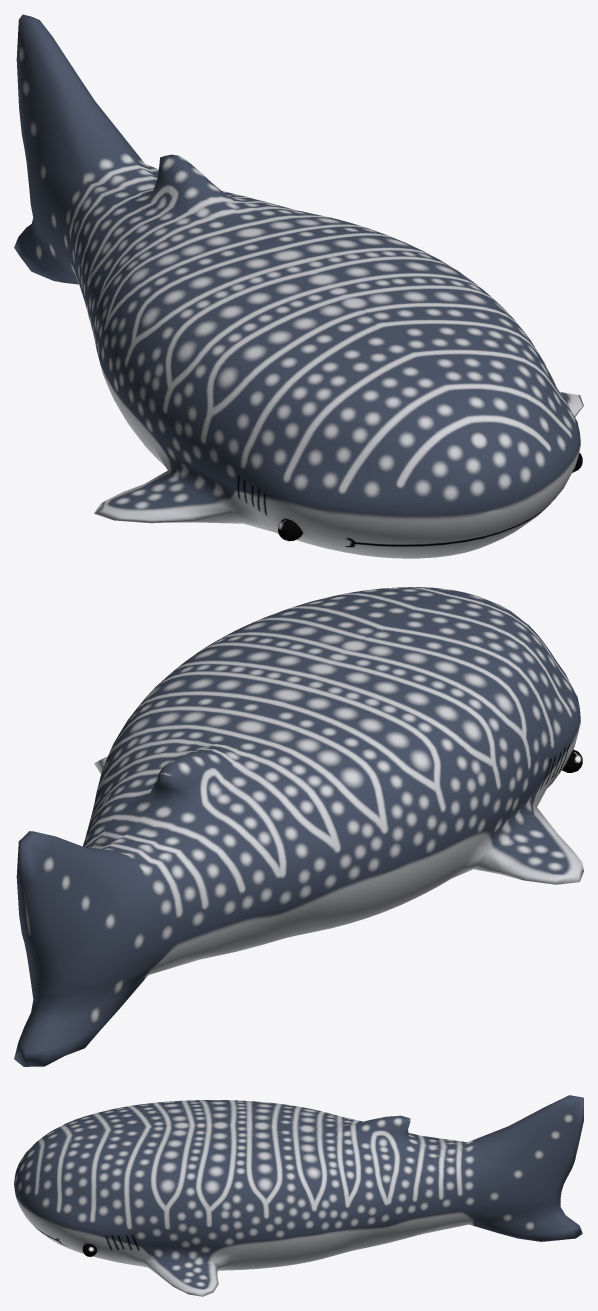
File: whale.glb
3 renders of one model, top to bottom at view 1: azimuth 30°, elevation 25°; view 2: azimuth 150°, elevation 25°; view 3: azimuth 270°, elevation 25°, orthographic. The views are drawn at different scales.
Parts seen in each view (by area): view 1: Sphere001; view 2: Sphere001; view 3: Sphere001.
Boxes of the visible parts, x1=… form: Sphere001: x1=14, y1=14, x2=583, y2=558; Sphere001: x1=14, y1=587, x2=583, y2=1066; Sphere001: x1=14, y1=1095, x2=583, y2=1296.
Size of the model in its own units: 85.63 by 39.07 by 144.
Materials: 1 (1 with a texture image).
